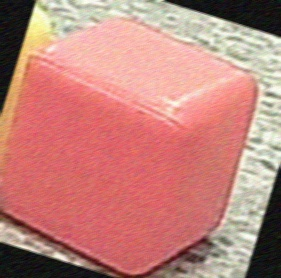orange_cube: (5, 15, 261, 278)
